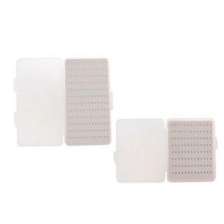foam_box: (9, 49, 117, 151), (108, 113, 222, 186)
